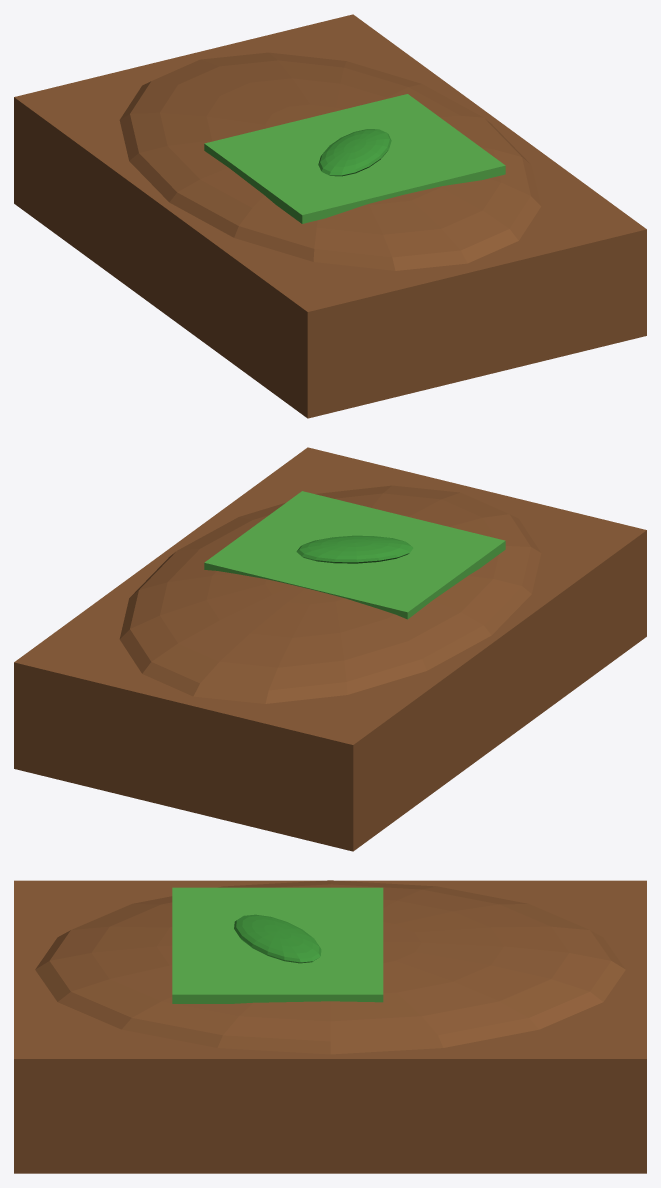
Rendered from soil_bag.glb.
3 renders of one model, top to bottom at view 1: azimuth 30°, elevation 25°; view 2: azimuth 150°, elevation 25°; view 3: azimuth 270°, elevation 25°, orthographic. The views are drawn at different scales.
Parts seen in each view (by area): view 1: sack_soil_sack, pillow_soil_sack, label_soil_label, leaf_plant_leaf; view 2: sack_soil_sack, pillow_soil_sack, label_soil_label, leaf_plant_leaf; view 3: sack_soil_sack, pillow_soil_sack, label_soil_label, leaf_plant_leaf.
Part boxes in pixels (x1,y1,x2,y2): sack_soil_sack: [14, 14, 646, 418]; pillow_soil_sack: [119, 52, 541, 270]; label_soil_label: [204, 94, 505, 223]; leaf_plant_leaf: [318, 129, 391, 176]; sack_soil_sack: [14, 447, 646, 851]; pillow_soil_sack: [119, 485, 541, 703]; label_soil_label: [204, 491, 505, 619]; leaf_plant_leaf: [296, 535, 413, 563]; sack_soil_sack: [14, 880, 646, 1173]; pillow_soil_sack: [35, 880, 625, 1054]; label_soil_label: [172, 887, 383, 1003]; leaf_plant_leaf: [234, 914, 321, 963].
Bounding box in the file's own units: 0.4 × 0.16 × 0.6.
